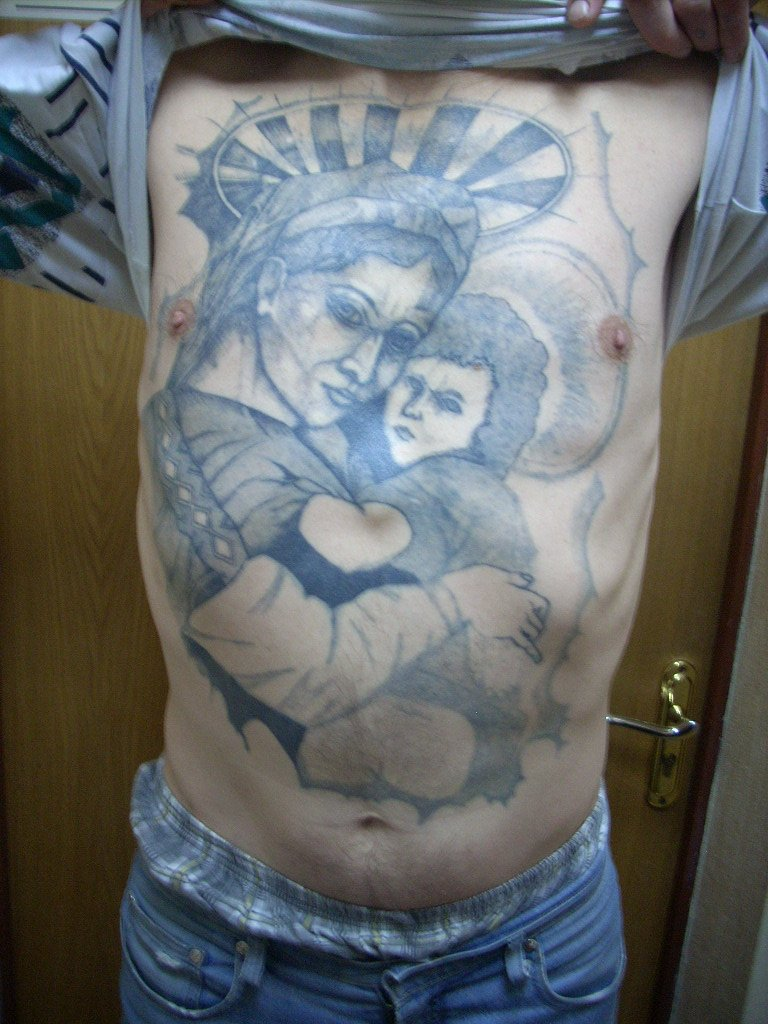tatu2_bogorodica: (142, 89, 611, 781)
